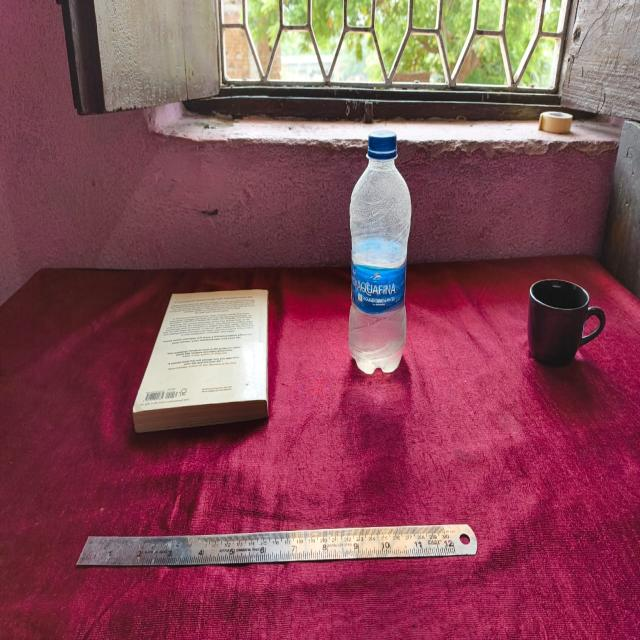Book: (128, 288, 274, 426)
Bottle: (348, 128, 413, 378)
Cup: (526, 278, 606, 370)
scale: (79, 522, 478, 570)
